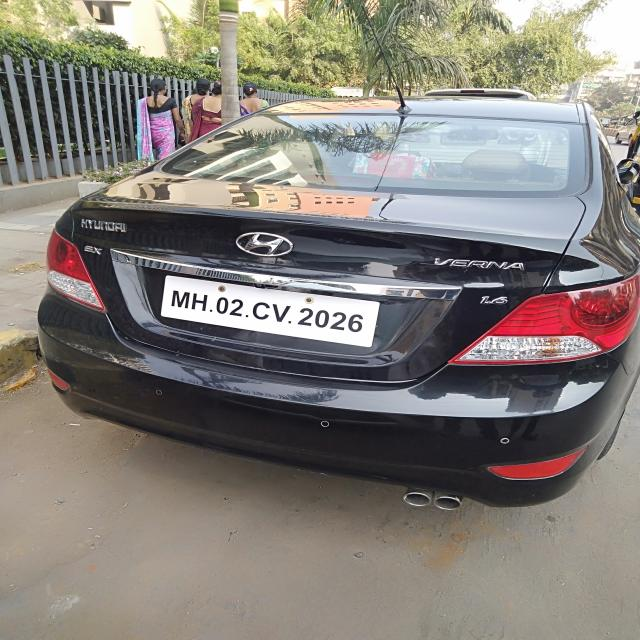Number-Plate: (157, 284, 378, 334)
